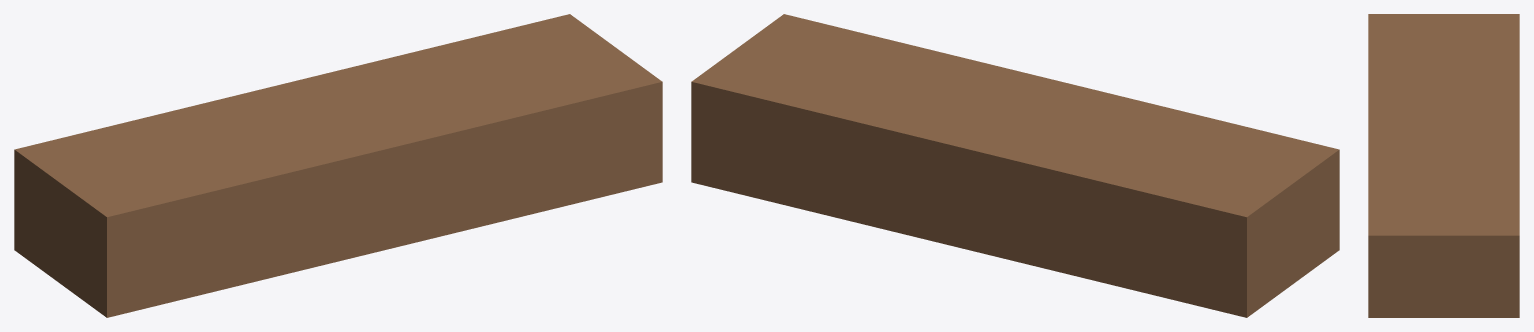
File: 1wall.glb
3 views of the same model, side by side, from view 1: azimuth 30°, elevation 25°; view 2: azimuth 150°, elevation 25°; view 3: azimuth 270°, elevation 25° (orthographic). The views are drawn at different scales.
Parts seen in each view (by area): view 1: Cliff; view 2: Cliff; view 3: Cliff.
Part boxes in pixels (x1=…): Cliff: x1=14, y1=14, x2=662, y2=317; Cliff: x1=691, y1=14, x2=1339, y2=317; Cliff: x1=1368, y1=14, x2=1519, y2=317.
Size of the model in its own units: 1.73 by 0.3 by 0.5.
Materials: 1 (1 with a texture image).
